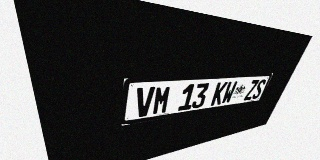1: (178, 84, 197, 111)
3: (191, 83, 210, 109)
K: (210, 82, 228, 106)
M: (152, 85, 172, 115)
S: (251, 79, 267, 99)
V: (134, 86, 155, 118)
W: (220, 81, 238, 104)
Z: (243, 80, 259, 101)
